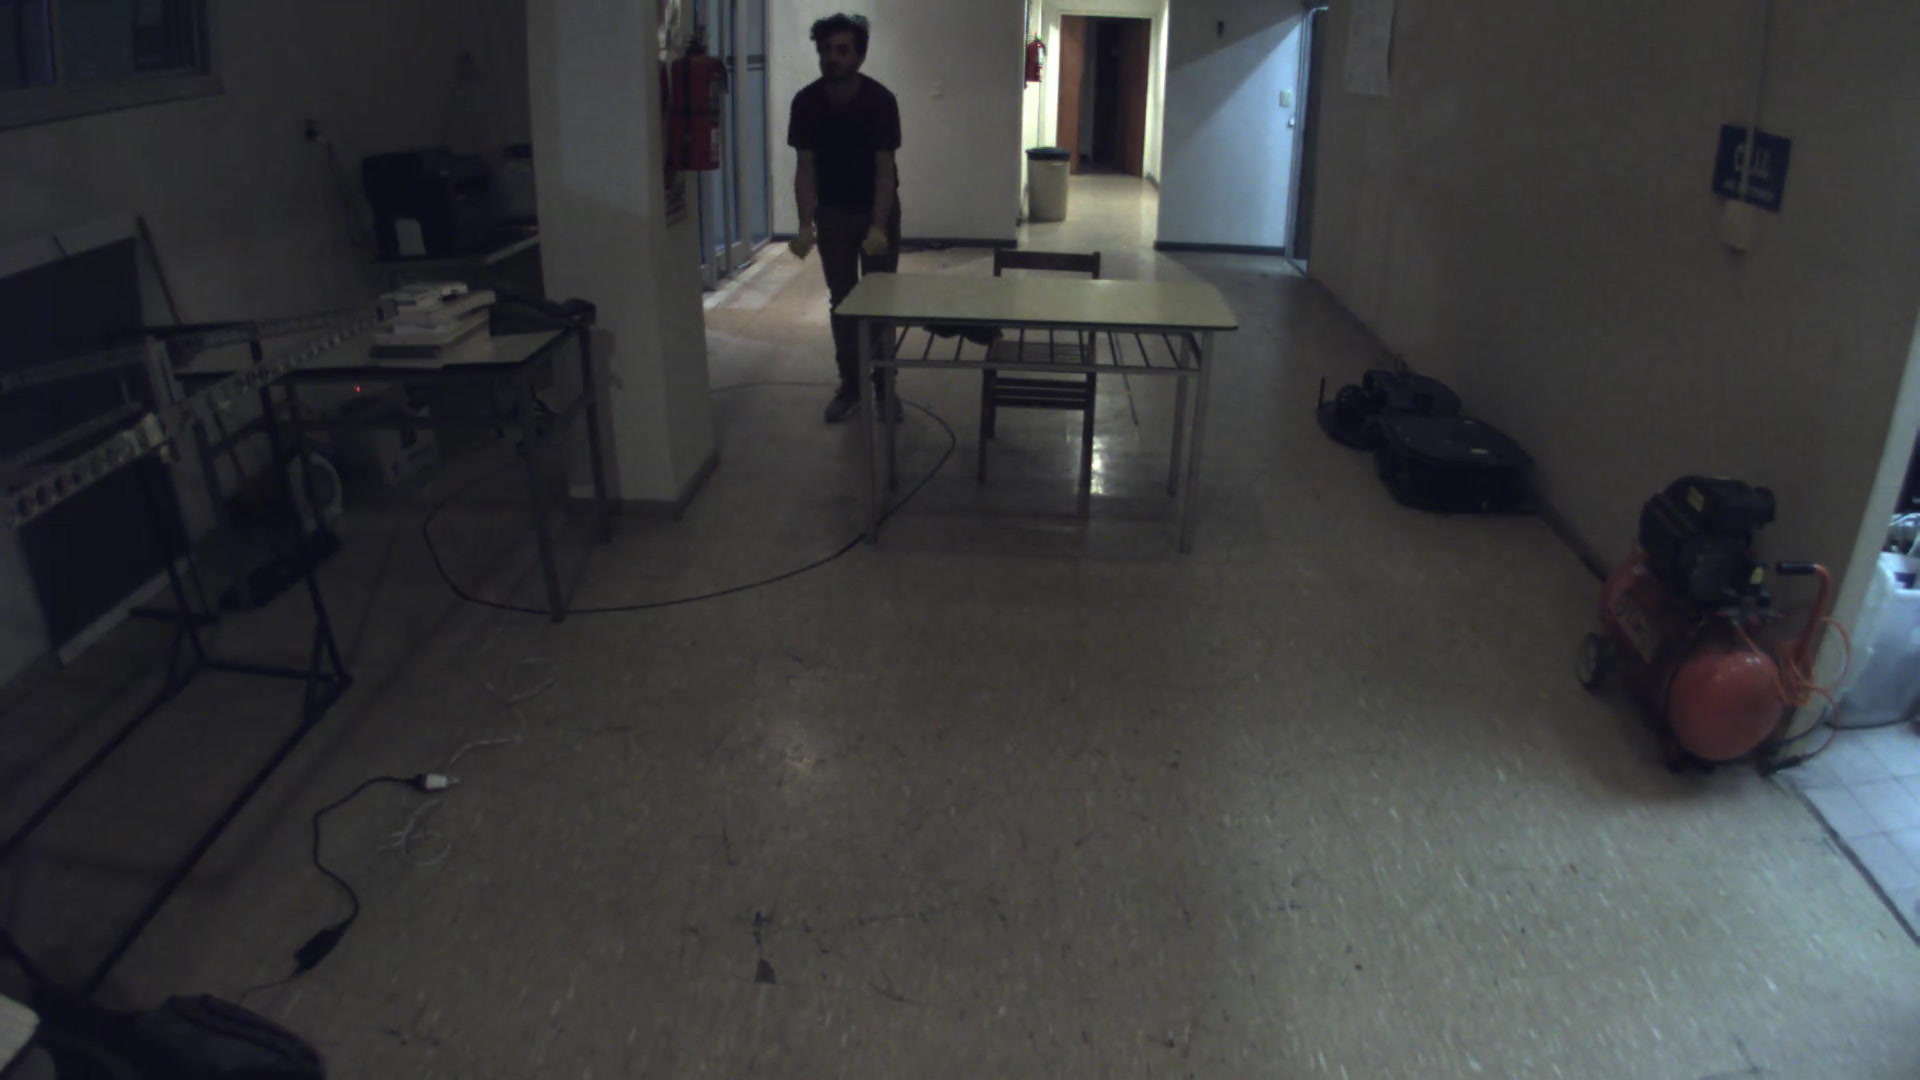hand: (779, 219, 832, 272), (849, 222, 895, 262)
